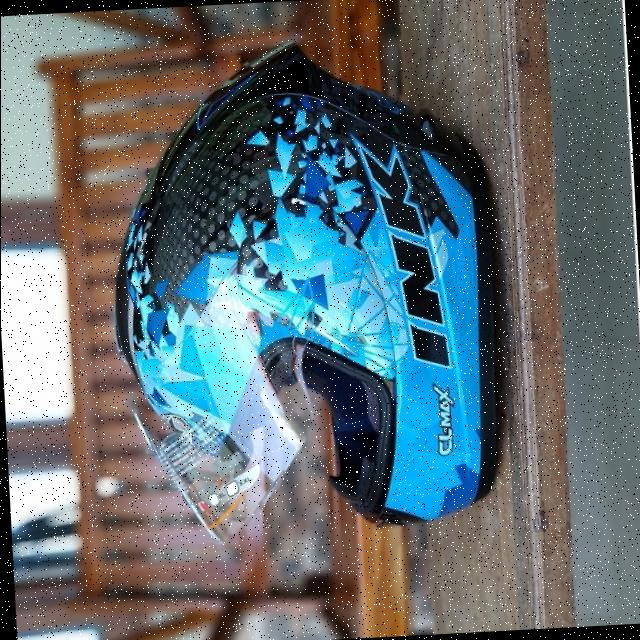Helm: (91, 32, 514, 556)
